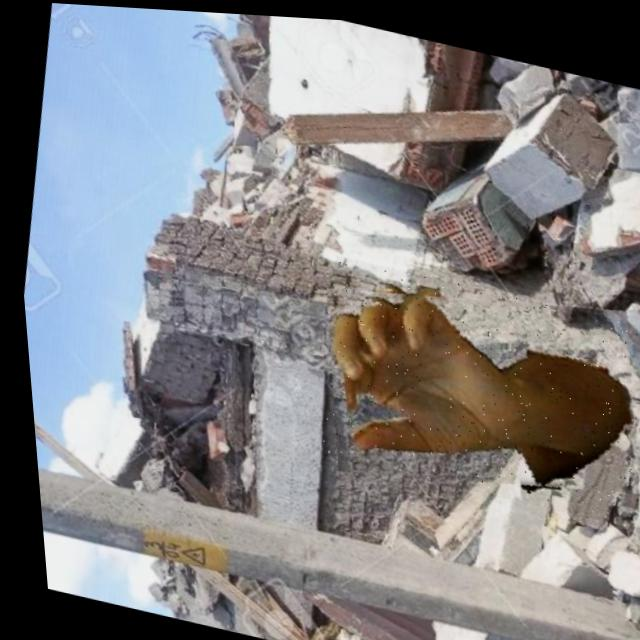Person in Rubble: (296, 248, 640, 520)
